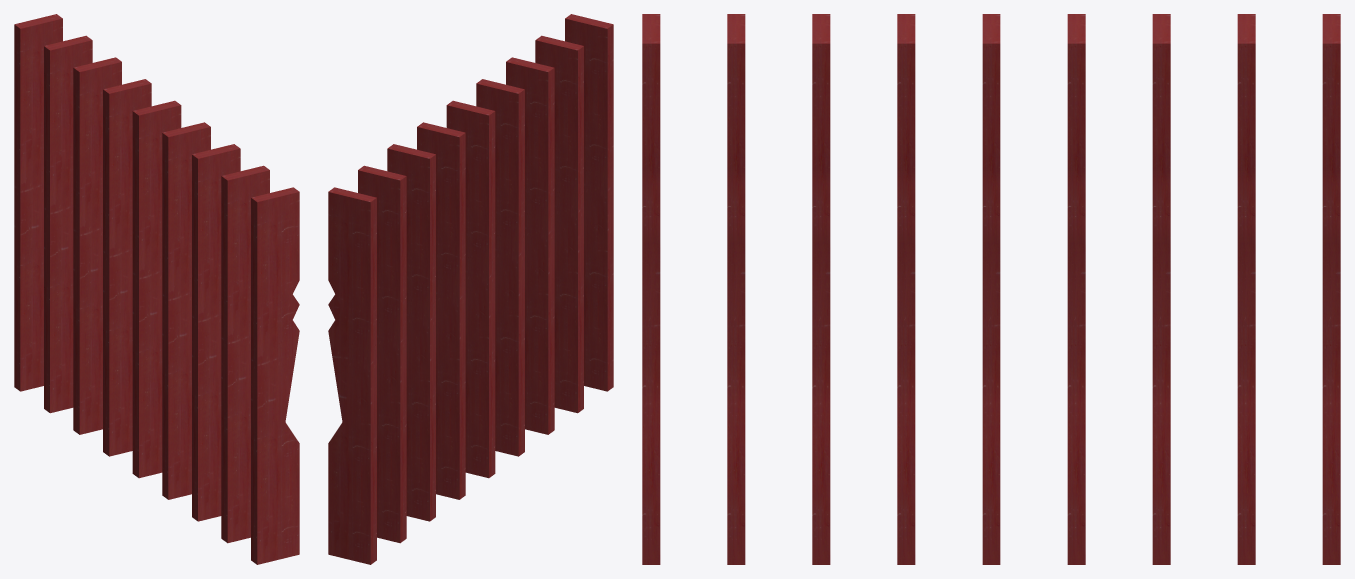
The model's file is SM_WI_Wood_2.fbx.
3 renders of one model, left to right at view 1: azimuth 30°, elevation 25°; view 2: azimuth 150°, elevation 25°; view 3: azimuth 270°, elevation 25°, orthographic. The views are drawn at different scales.
Visible parts, largest first — view 1: SM_WI_Wood_2; view 2: SM_WI_Wood_2; view 3: SM_WI_Wood_2.
Part boxes in pixels (x1,y1,x2,y2): SM_WI_Wood_2: (14, 14, 299, 564); SM_WI_Wood_2: (328, 14, 613, 564); SM_WI_Wood_2: (642, 14, 1340, 564).
Size of the model in its own units: 8.94 by 88.67 by 73.02.
1 material, 1 textured.
